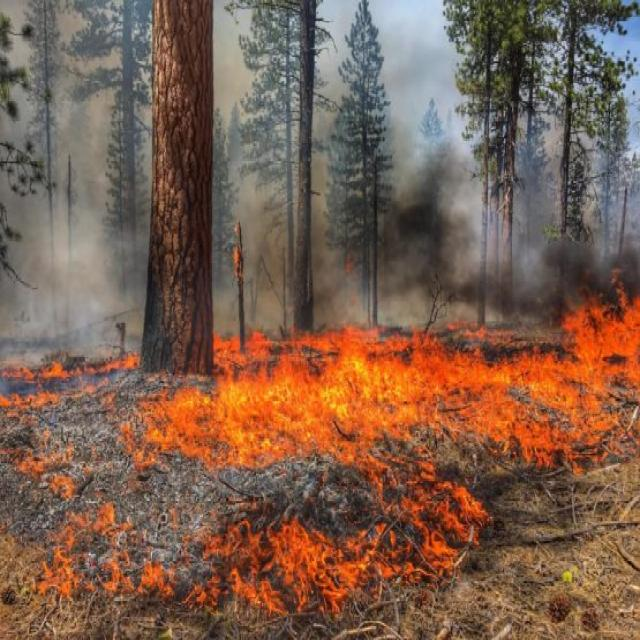fire: (217, 331, 640, 456), (206, 491, 486, 604), (30, 513, 173, 600)
